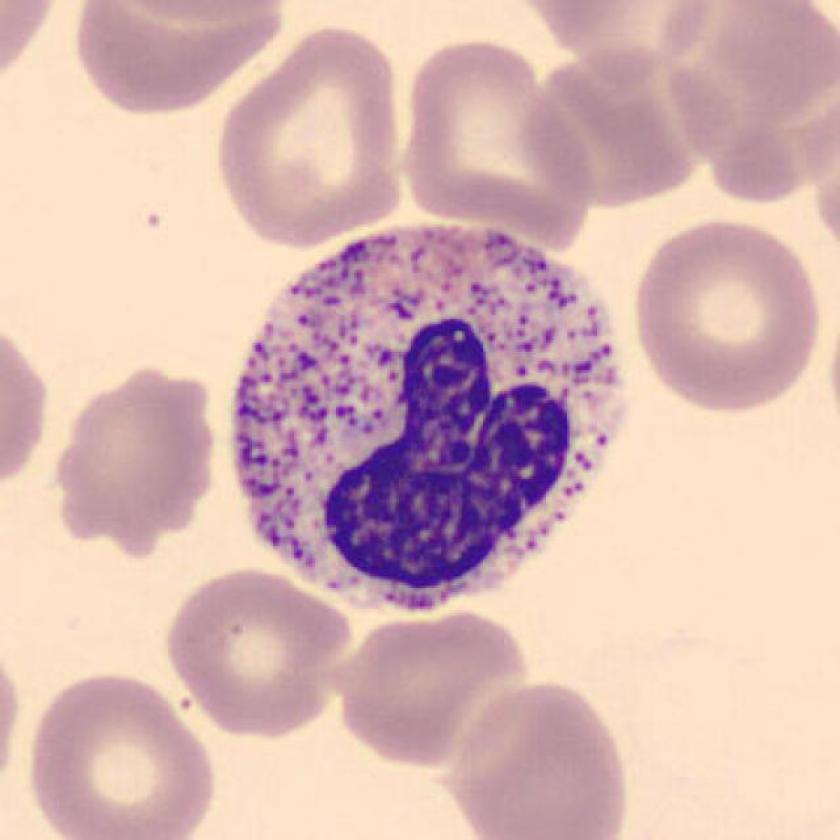neutrophil: (228, 227, 621, 610)
